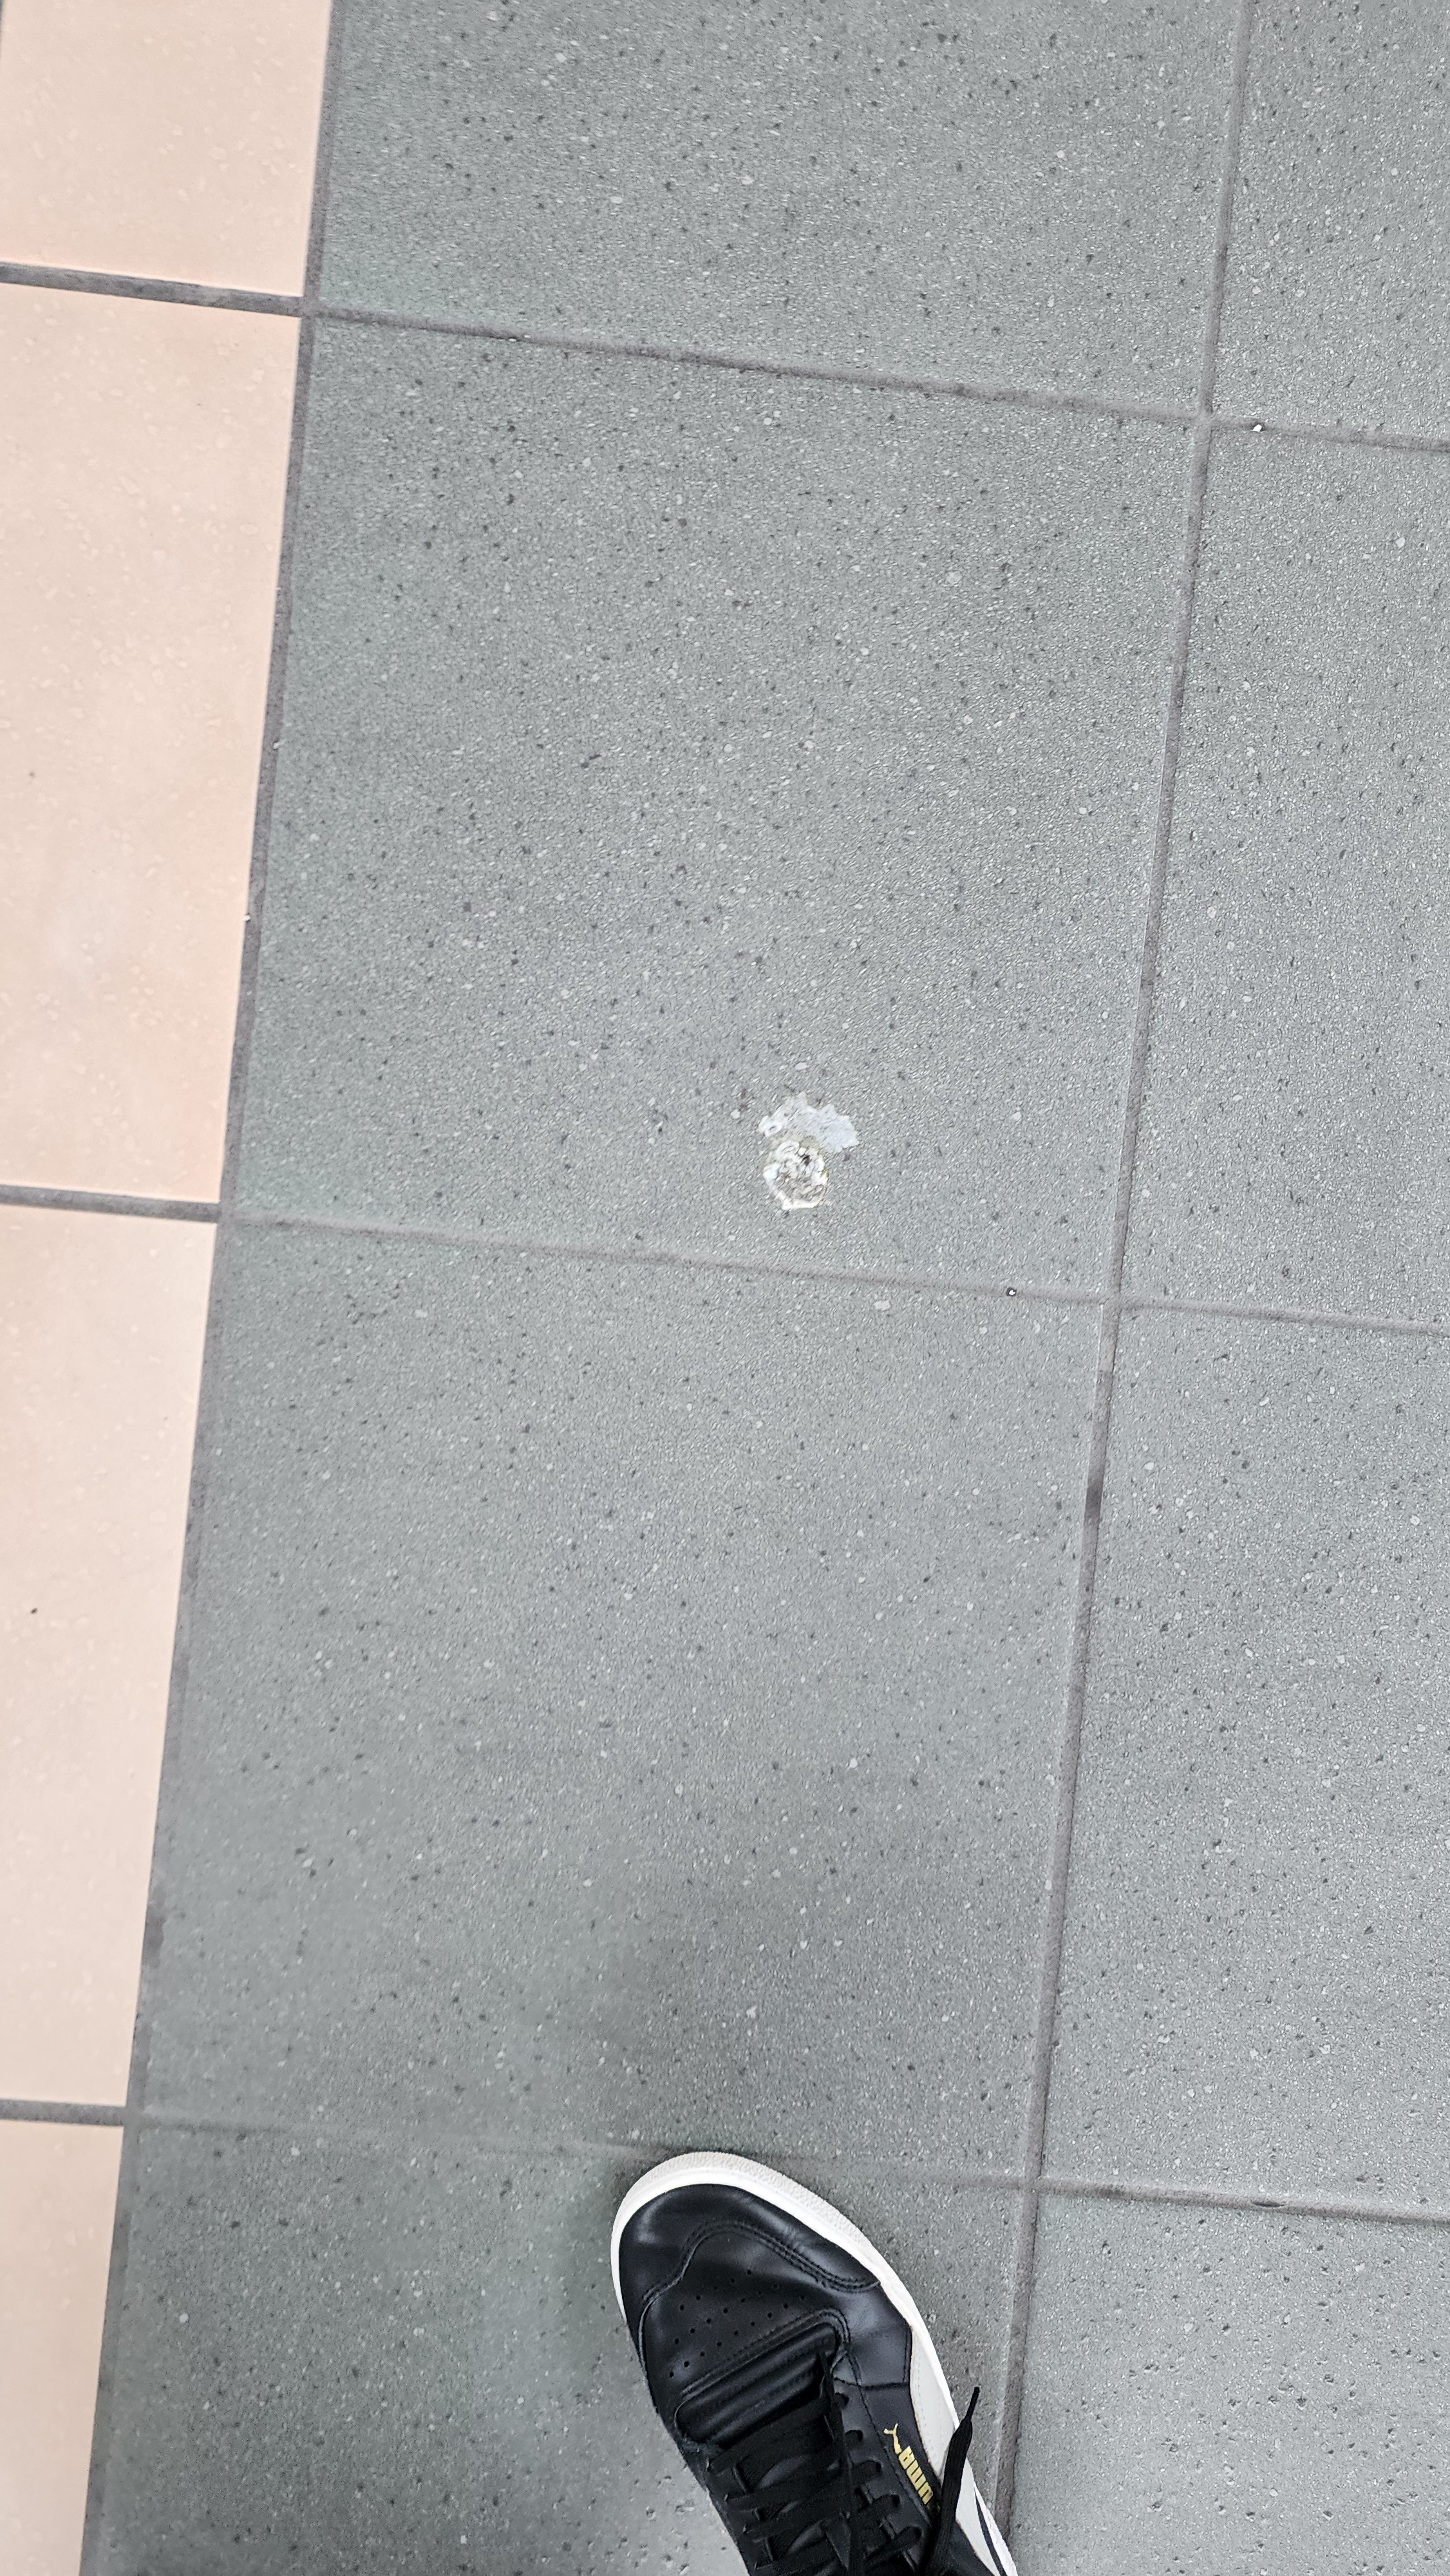garbage: (725, 1085, 912, 1219)
